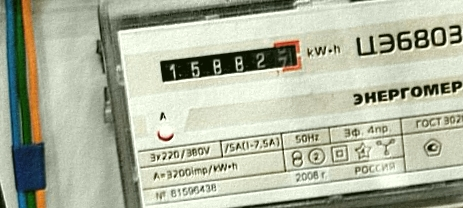1: (167, 61, 179, 80)
2: (255, 50, 267, 69)
5: (189, 60, 202, 78)
7: (277, 55, 289, 67)
8: (210, 57, 224, 75), (233, 54, 245, 73)
screen: (151, 36, 309, 91)
